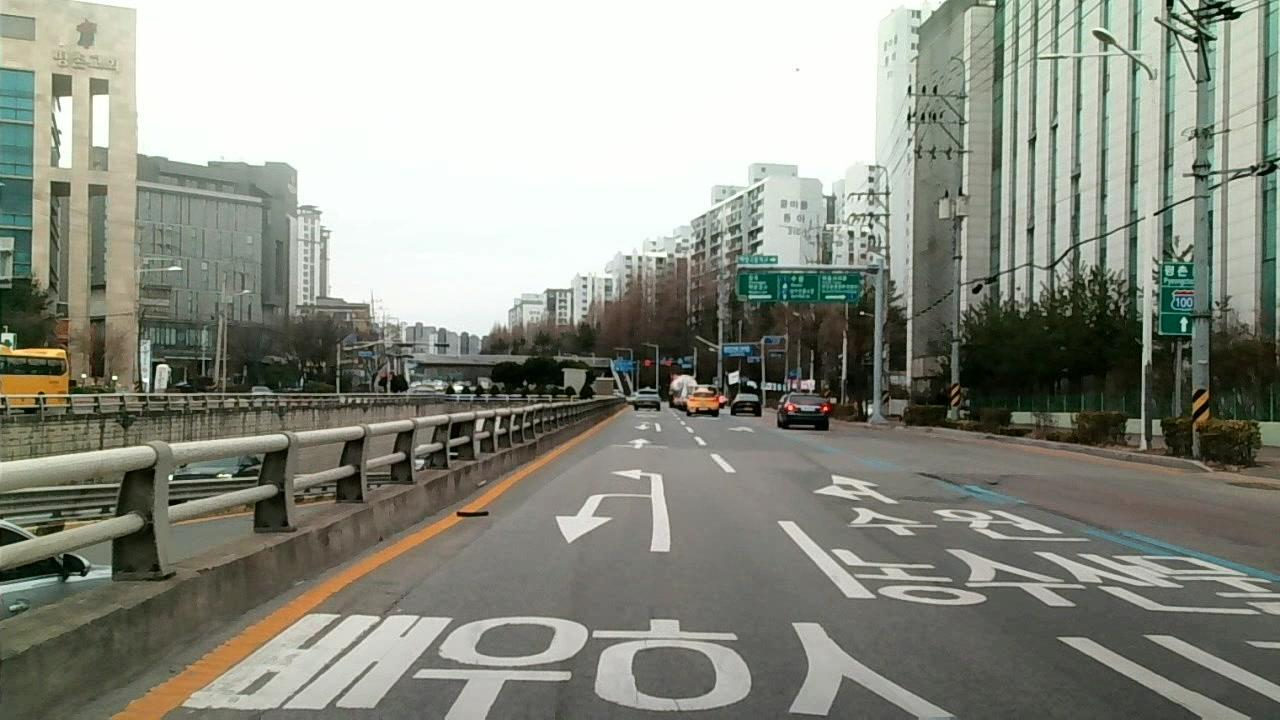vcrack: (1022, 501, 1107, 532), (918, 472, 965, 489)
